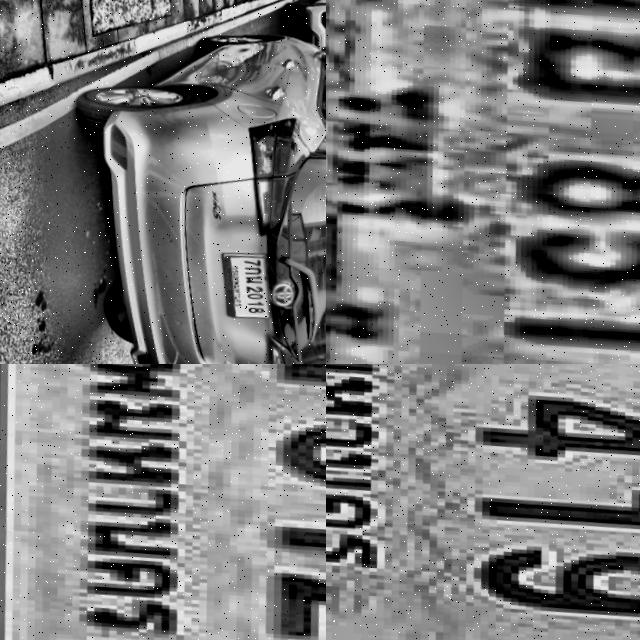license-plate: (326, 0, 640, 364), (0, 364, 326, 640), (326, 364, 640, 640), (202, 250, 274, 327)
